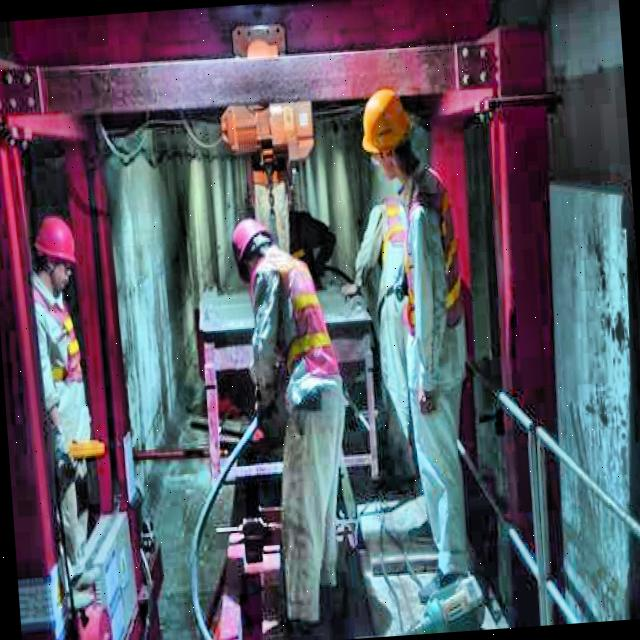helmet: (352, 84, 424, 184), (31, 212, 82, 298), (226, 216, 276, 276)
